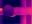Hotspot: (0, 8, 2, 12)
